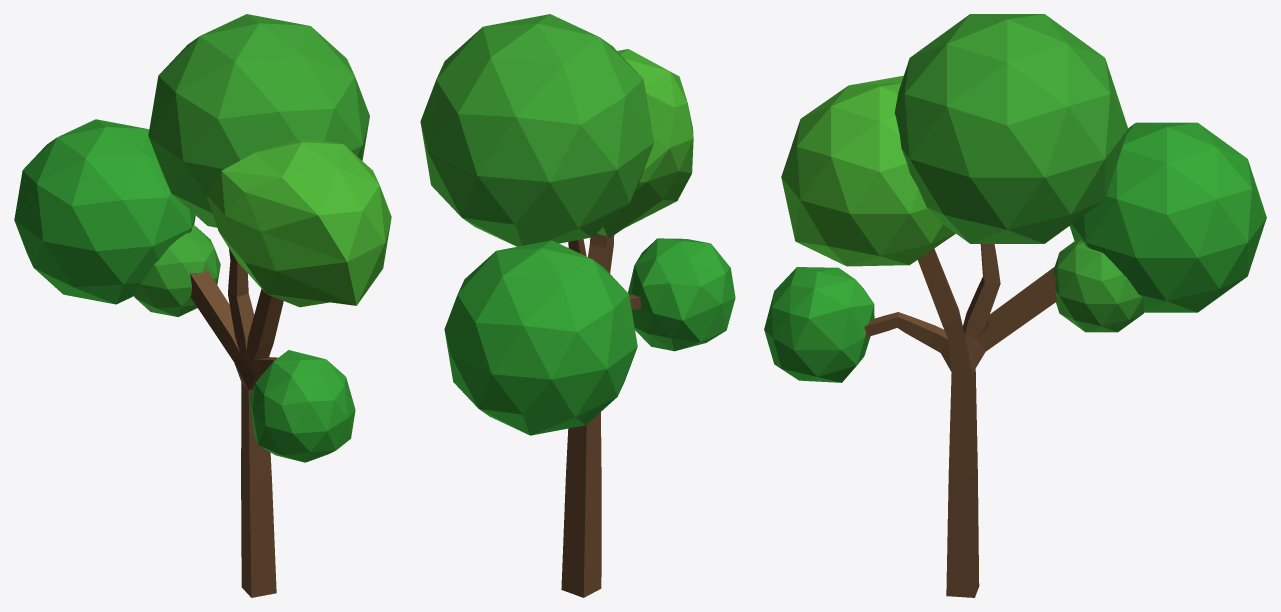
Rendered from derevo2.fbx.
The picture shows the model from 3 angles, left to right: view 1: azimuth 30°, elevation 25°; view 2: azimuth 150°, elevation 25°; view 3: azimuth 270°, elevation 25°; orthographic projection. The views are drawn at different scales.
Visible parts, largest first — view 1: Icosphere.001, Icosphere, Icosphere.002, Cube, Icosphere.004, Icosphere.003; view 2: Icosphere.001, Icosphere.002, Icosphere.004, Cube, Icosphere; view 3: Icosphere.001, Icosphere.002, Icosphere, Cube, Icosphere.004, Icosphere.003.
Boxes of the visible parts, x1,y1,x2,y2 form: Icosphere.001: [148, 14, 369, 227]; Icosphere: [206, 139, 391, 307]; Icosphere.002: [14, 119, 195, 304]; Cube: [190, 248, 283, 597]; Icosphere.004: [249, 350, 355, 462]; Icosphere.003: [133, 225, 220, 316]; Icosphere.001: [420, 14, 653, 246]; Icosphere.002: [444, 240, 637, 435]; Icosphere.004: [628, 238, 735, 351]; Cube: [561, 233, 641, 597]; Icosphere: [597, 49, 693, 238]; Icosphere.001: [894, 14, 1128, 243]; Icosphere.002: [1069, 122, 1266, 312]; Icosphere: [781, 75, 955, 266]; Cube: [864, 244, 1056, 597]; Icosphere.004: [764, 267, 874, 382]; Icosphere.003: [1054, 239, 1145, 332].
Size of the model in its own units: 254 by 532 by 416.
